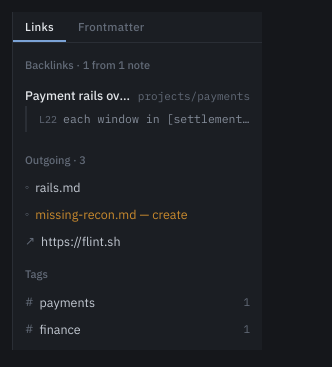
it: RightSidebar › shows the empty state with an Add field row when there is no front matter
Click the tab "Frontmatter": x=111, y=27 x1=66 y1=12 x2=156 y2=42
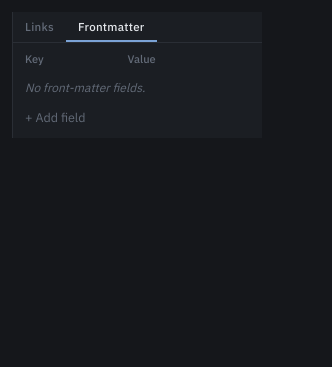
expect the text "No front-matter fields." is shown: met, box x1=25 y1=80 x2=145 y2=94
expect the button "+ Add field" is shown: met, box x1=13 y1=104 x2=262 y2=130
